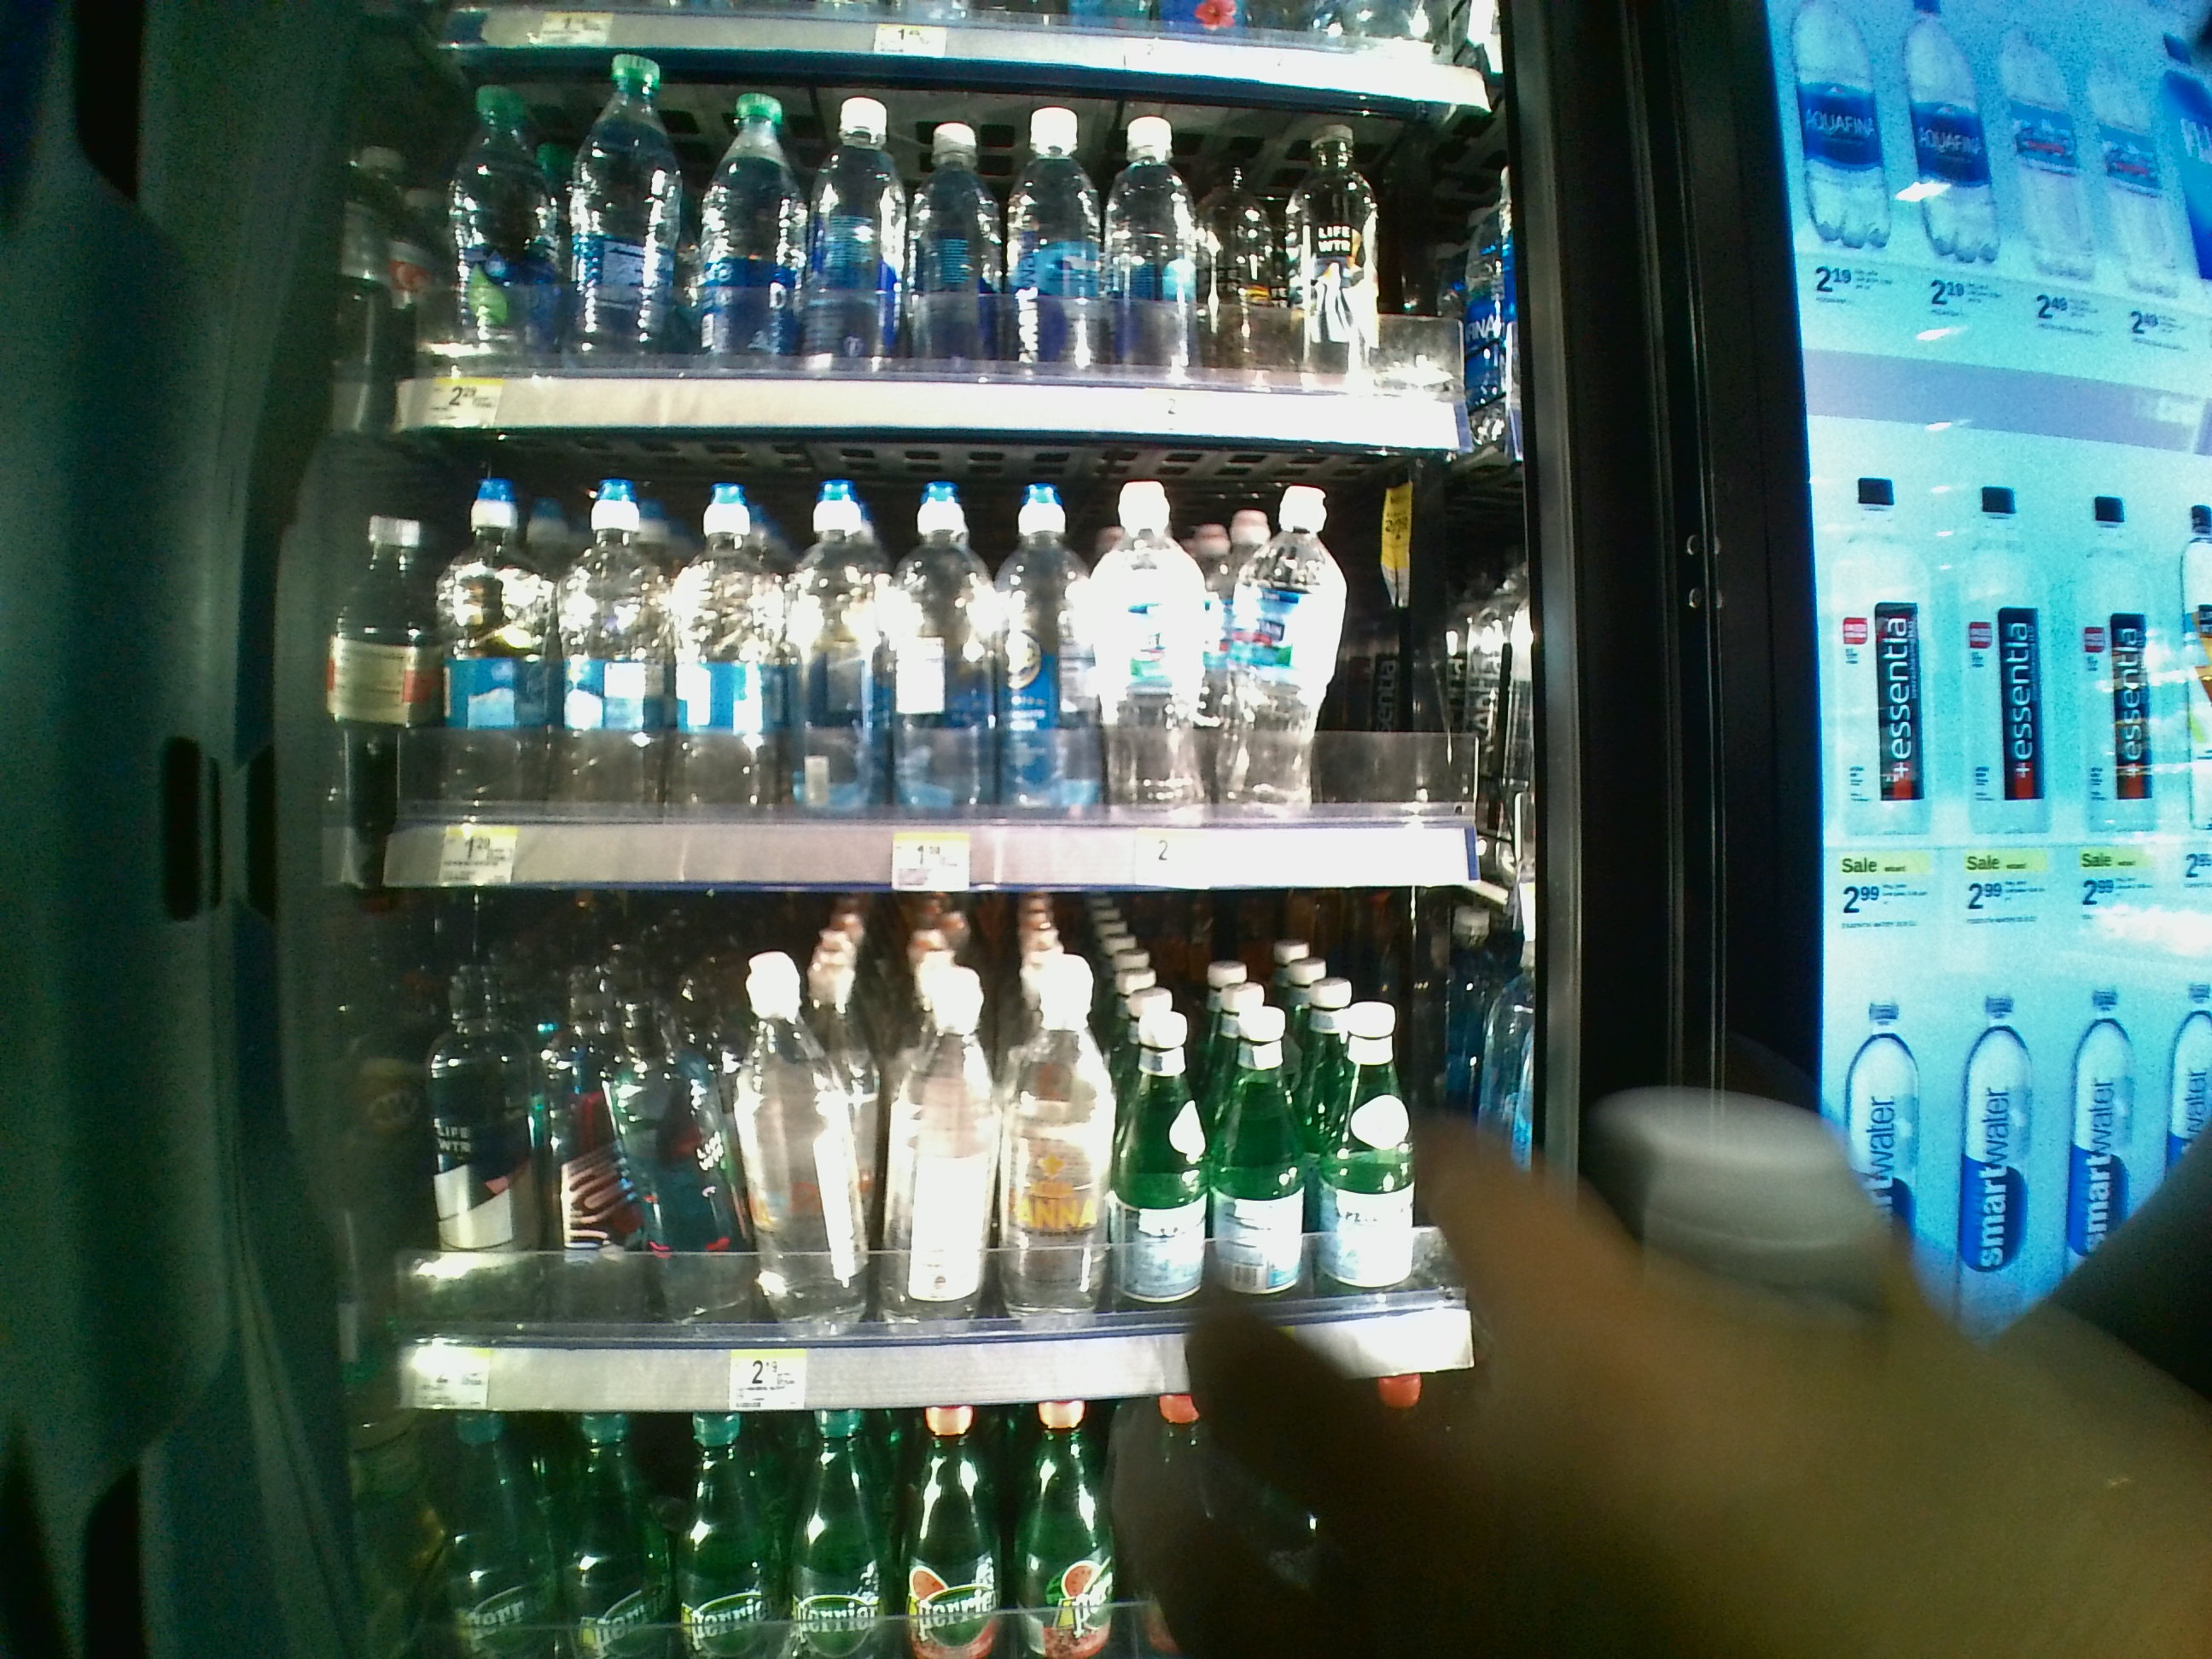shelf: (355, 427, 1548, 899)
